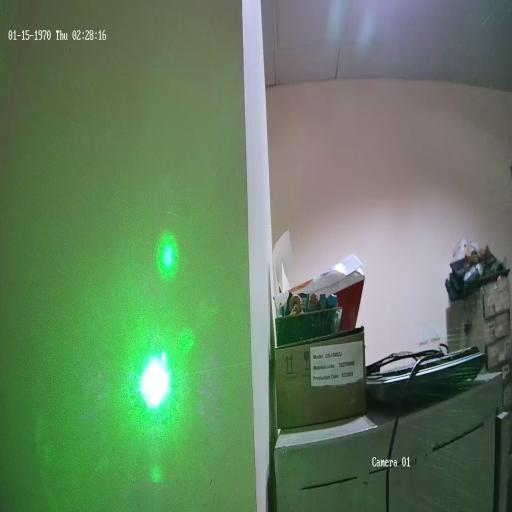laser: (136, 342, 174, 421)
